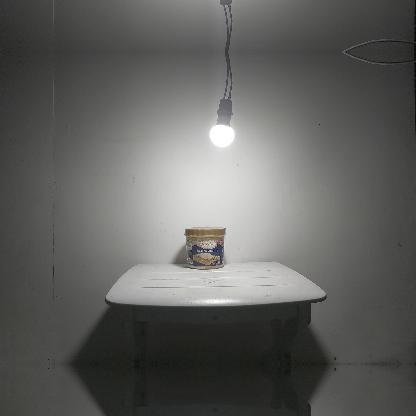Lady-s-Choice: (184, 227, 226, 269)
